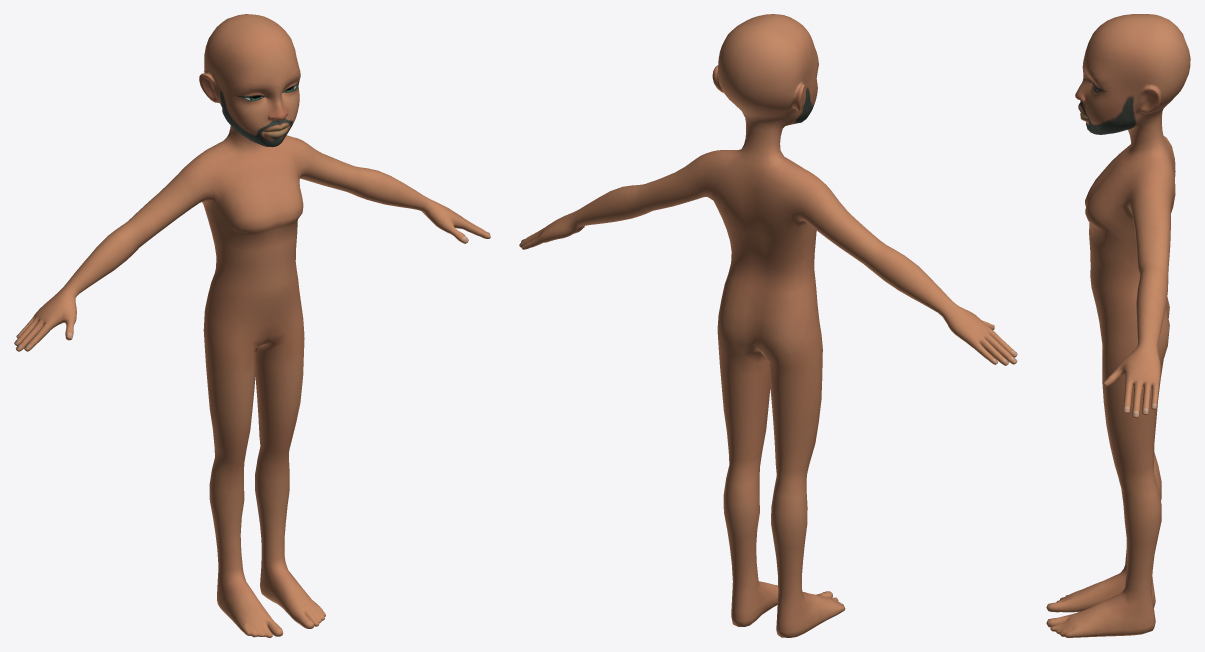
Rendered from frame_0008.glb.
3 views of the same model, side by side, from view 1: azimuth 30°, elevation 25°; view 2: azimuth 150°, elevation 25°; view 3: azimuth 270°, elevation 25° (orthographic). The views are drawn at different scales.
Visible parts, largest first — view 1: frame_0008_head_geo; view 2: frame_0008_head_geo; view 3: frame_0008_head_geo.
Boxes of the visible parts, x1=… form: frame_0008_head_geo: x1=14, y1=14, x2=490, y2=637; frame_0008_head_geo: x1=519, y1=14, x2=1017, y2=637; frame_0008_head_geo: x1=1046, y1=14, x2=1190, y2=637.
Bounding box in the file's own units: 1.28 × 1.5 × 0.3253.
Materials: 3 (3 with a texture image).
